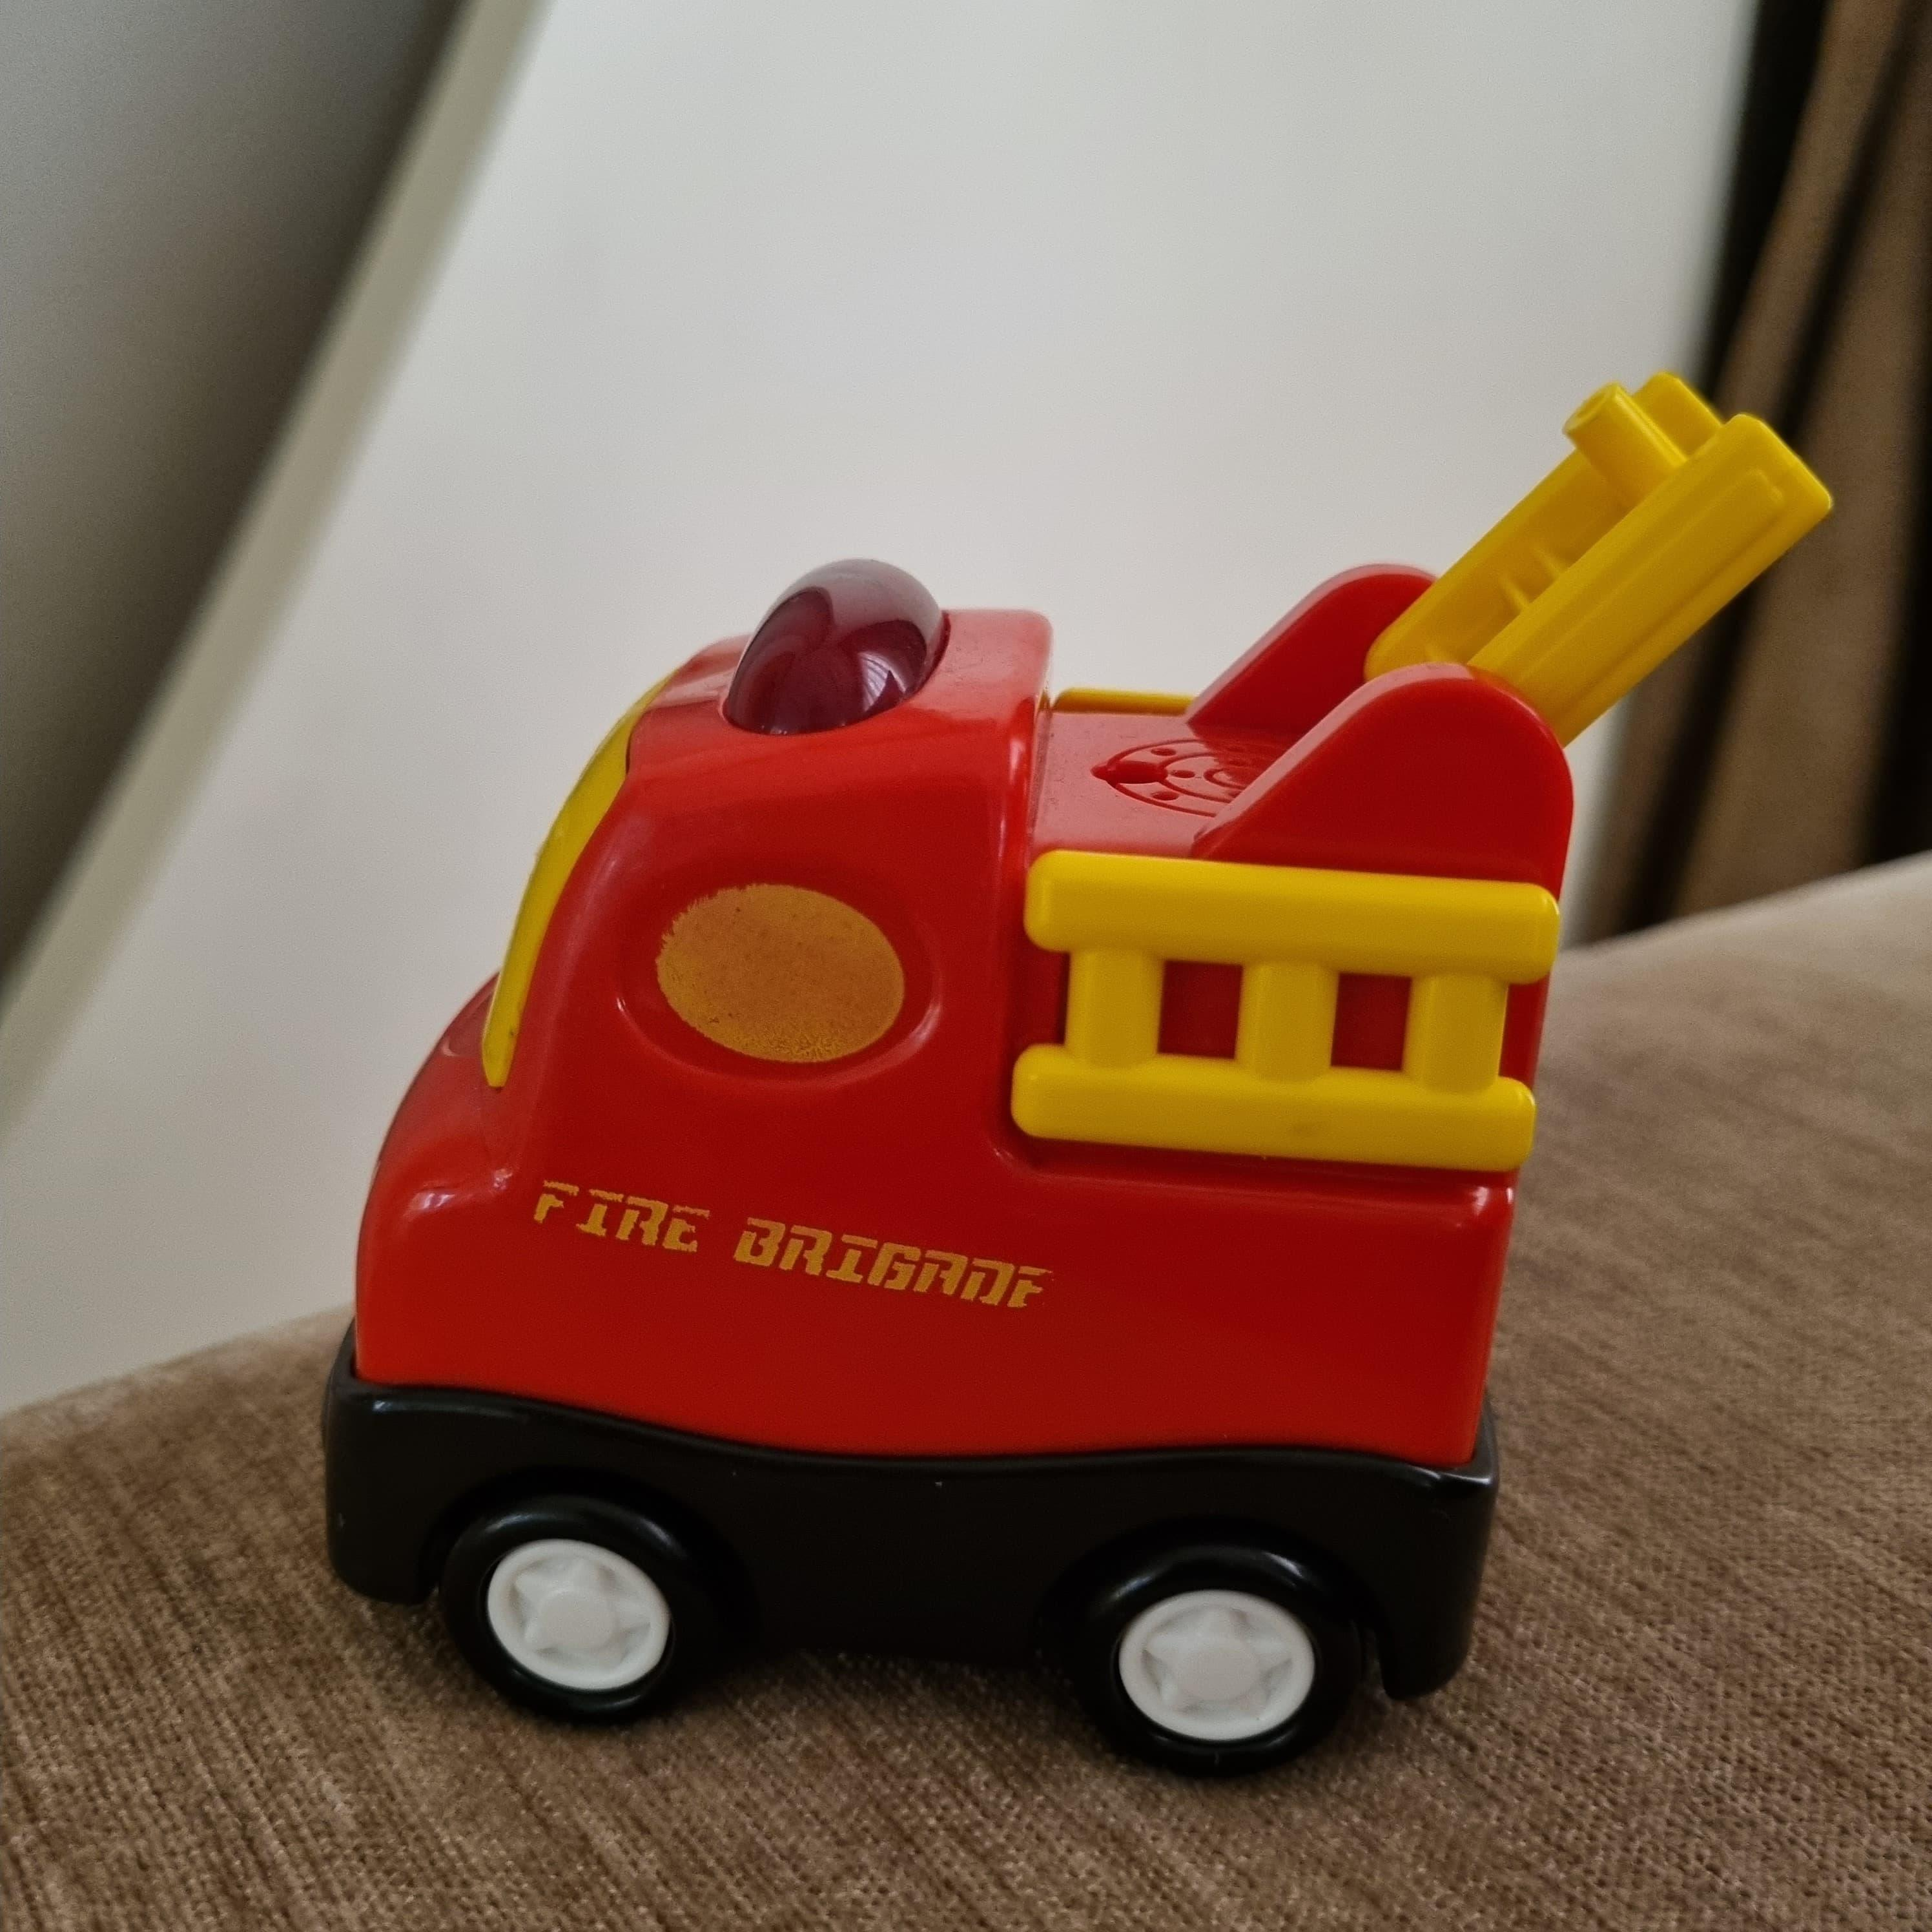firetruck_off: (320, 372, 1844, 1782)
